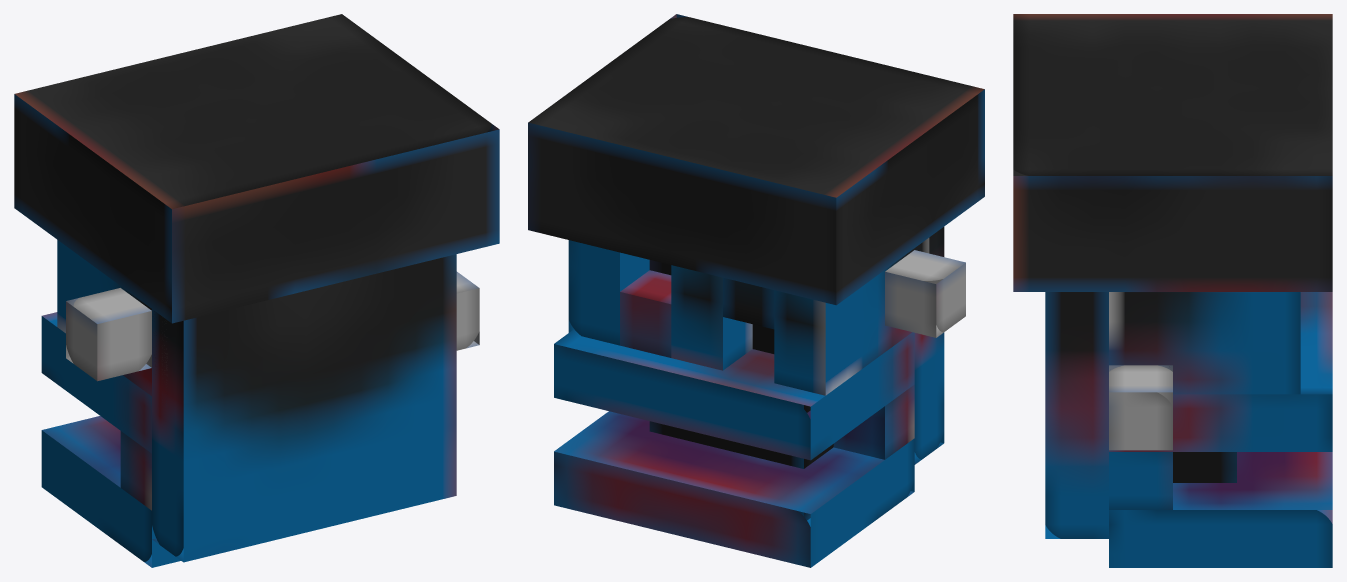
The model's file is MonsterMask.fbx.
3 views of the same model, side by side, from view 1: azimuth 30°, elevation 25°; view 2: azimuth 150°, elevation 25°; view 3: azimuth 270°, elevation 25° (orthographic). The views are drawn at different scales.
Visible parts, largest first — view 1: cube, cube_5, cube_7, cube_10, cube_4, cube_2, cube_6, cube_11; view 2: cube, cube_7, cube_4, cube_2, cube_1, cube_10, cube_3, cube_5, cube_8, cube_6, black, cube_9; view 3: cube, cube_7, cube_3, cube_5, cube_4, cube_11, cube_6, black.
Boxes of the visible parts, x1=… form: cube: x1=14, y1=14, x2=499, y2=323; cube_5: x1=152, y1=254, x2=456, y2=562; cube_7: x1=41, y1=416, x2=180, y2=567; cube_10: x1=66, y1=288, x2=151, y2=381; cube_4: x1=41, y1=312, x2=151, y2=453; cube_2: x1=57, y1=240, x2=166, y2=405; cube_6: x1=120, y1=431, x2=151, y2=510; cube_11: x1=456, y1=271, x2=479, y2=350; cube: x1=528, y1=14, x2=984, y2=305; cube_7: x1=554, y1=411, x2=914, y2=567; cube_4: x1=554, y1=329, x2=914, y2=460; cube_2: x1=774, y1=238, x2=929, y2=395; cube_1: x1=671, y1=265, x2=752, y2=370; cube_10: x1=885, y1=250, x2=965, y2=337; cube_3: x1=568, y1=240, x2=649, y2=345; cube_5: x1=914, y1=227, x2=944, y2=464; cube_8: x1=620, y1=270, x2=671, y2=357; cube_6: x1=833, y1=384, x2=914, y2=459; black: x1=649, y1=260, x2=833, y2=520; cube_9: x1=723, y1=277, x2=774, y2=329; cube: x1=1013, y1=14, x2=1332, y2=291; cube_7: x1=1109, y1=452, x2=1332, y2=567; cube_3: x1=1109, y1=292, x2=1300, y2=394; cube_5: x1=1045, y1=292, x2=1108, y2=538; cube_4: x1=1109, y1=292, x2=1332, y2=451; cube_11: x1=1109, y1=365, x2=1172, y2=450; cube_6: x1=1109, y1=452, x2=1172, y2=509; black: x1=1173, y1=452, x2=1236, y2=482.
Size of the model in its own units: 87.5 by 87.5 by 62.5.
1 material, 1 textured.
